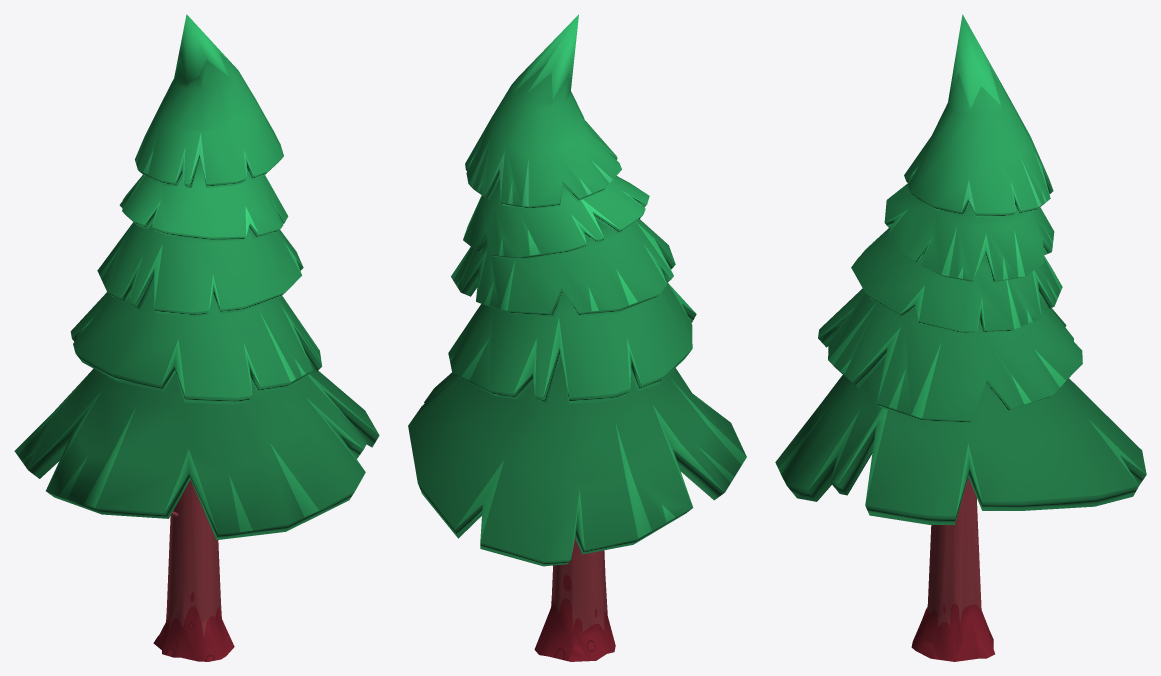
File: Tree_Pine_v2.fbx
3 renders of one model, left to right at view 1: azimuth 30°, elevation 25°; view 2: azimuth 150°, elevation 25°; view 3: azimuth 270°, elevation 25°, orthographic.
Parts seen in each view (by area): view 1: Pine; view 2: Pine; view 3: Pine.
Boxes of the visible parts, x1,y1,x2,y2 form: Pine: [14, 14, 379, 661]; Pine: [408, 14, 746, 661]; Pine: [775, 14, 1146, 661].
Size of the model in its own units: 489 by 967 by 517.
